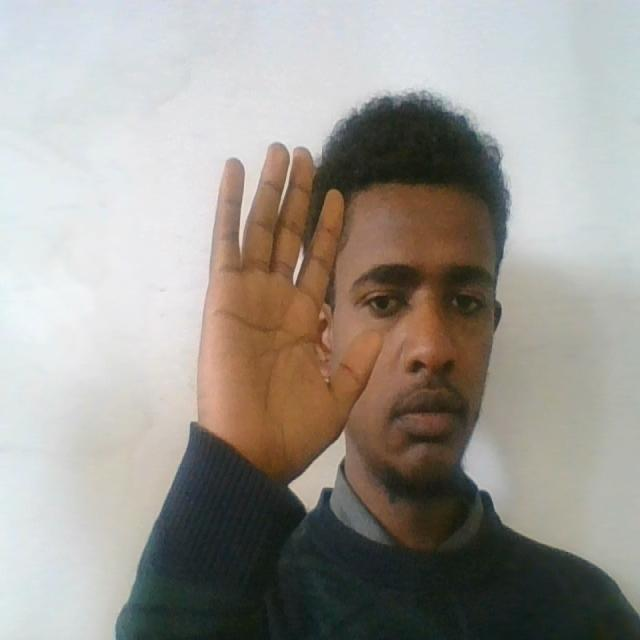hello: (204, 136, 387, 471)
